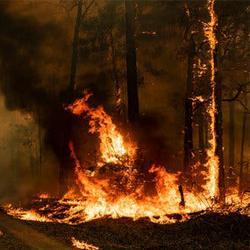fire: (77, 177, 181, 214), (101, 125, 131, 159)
